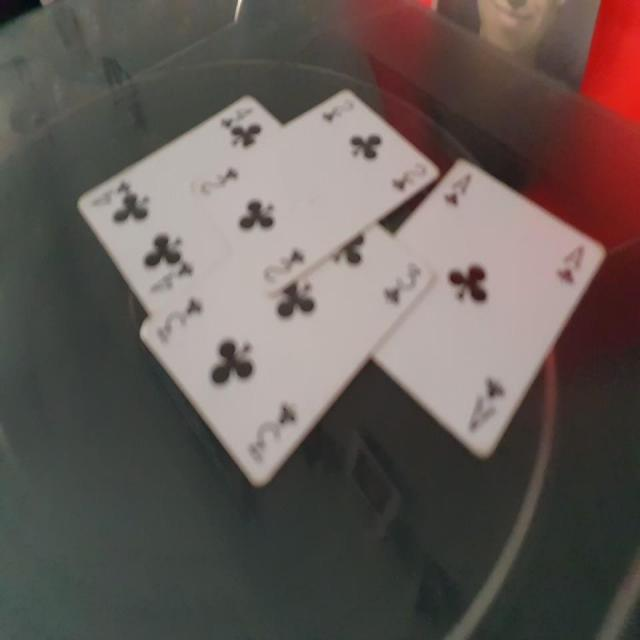2 of clubs: (190, 85, 441, 298)
3 of clubs: (138, 214, 438, 491)
4 of clubs: (75, 92, 284, 316)
ace of clubs: (373, 156, 609, 466)
